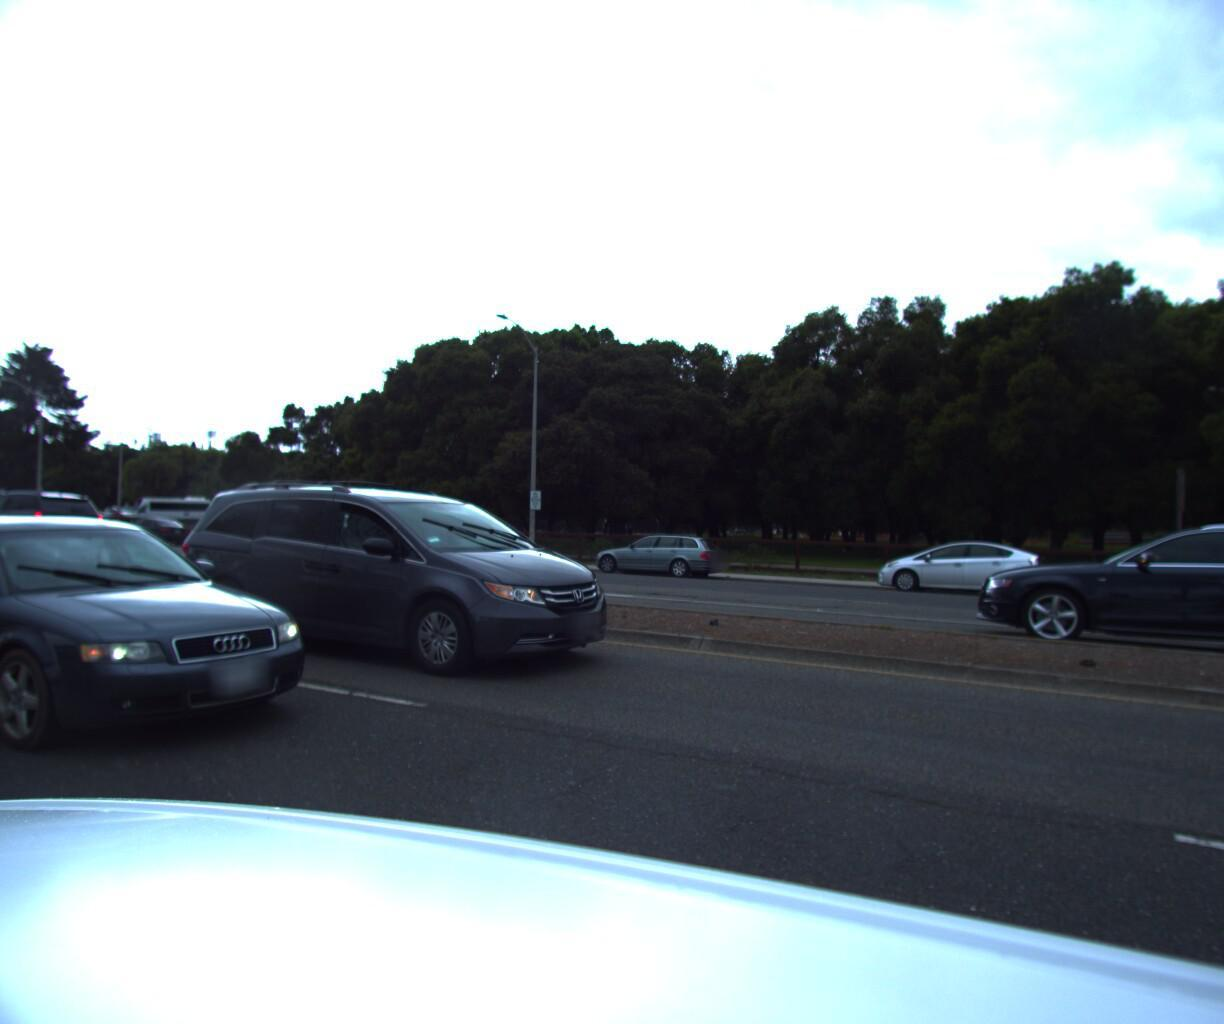car: (170, 467, 647, 694), (0, 501, 365, 788), (988, 513, 1224, 683), (177, 500, 414, 581), (868, 536, 1051, 604), (0, 488, 117, 557), (585, 529, 730, 582), (106, 516, 197, 549)
